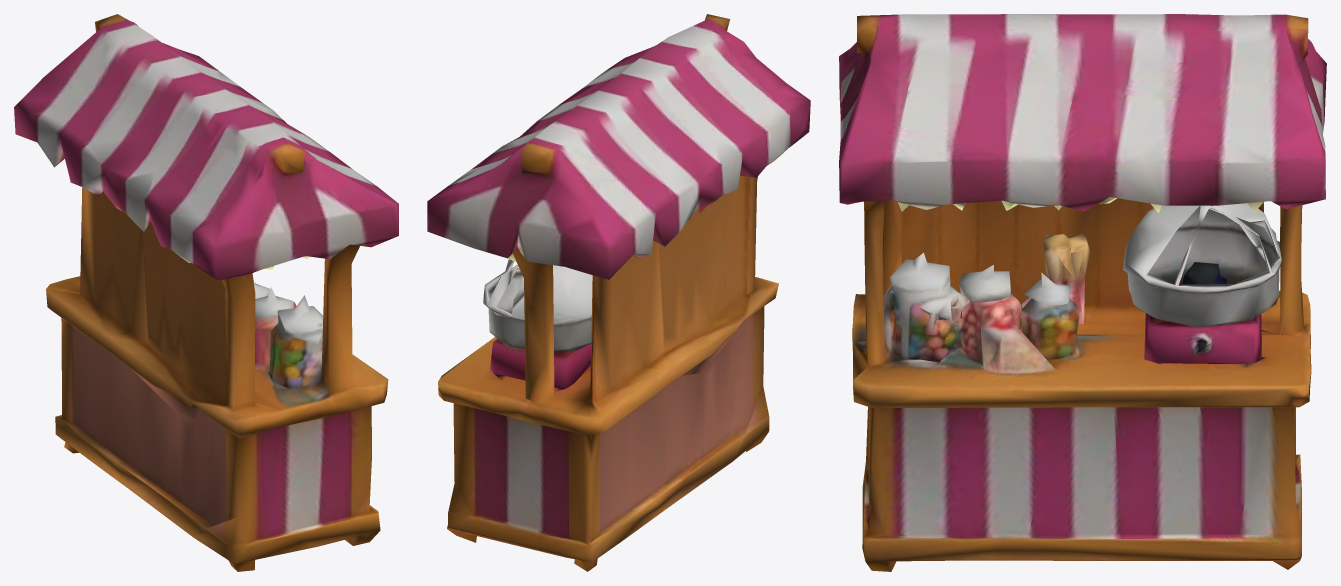
Rendered from stall.glb.
3 renders of one model, left to right at view 1: azimuth 30°, elevation 25°; view 2: azimuth 150°, elevation 25°; view 3: azimuth 270°, elevation 25°, orthographic. The views are drawn at different scales.
Visible parts, largest first — view 1: tripo_node_07ce8e03-2952-4ba4-ab86-c833c59f68e2; view 2: tripo_node_07ce8e03-2952-4ba4-ab86-c833c59f68e2; view 3: tripo_node_07ce8e03-2952-4ba4-ab86-c833c59f68e2.
Boxes of the visible parts, x1,y1,x2,y2 form: tripo_node_07ce8e03-2952-4ba4-ab86-c833c59f68e2: [14, 14, 398, 571]; tripo_node_07ce8e03-2952-4ba4-ab86-c833c59f68e2: [427, 14, 810, 571]; tripo_node_07ce8e03-2952-4ba4-ab86-c833c59f68e2: [839, 14, 1326, 571].
Bounding box in the file's own units: 0.4686 × 1 × 0.8724.
1 material, 1 textured.
